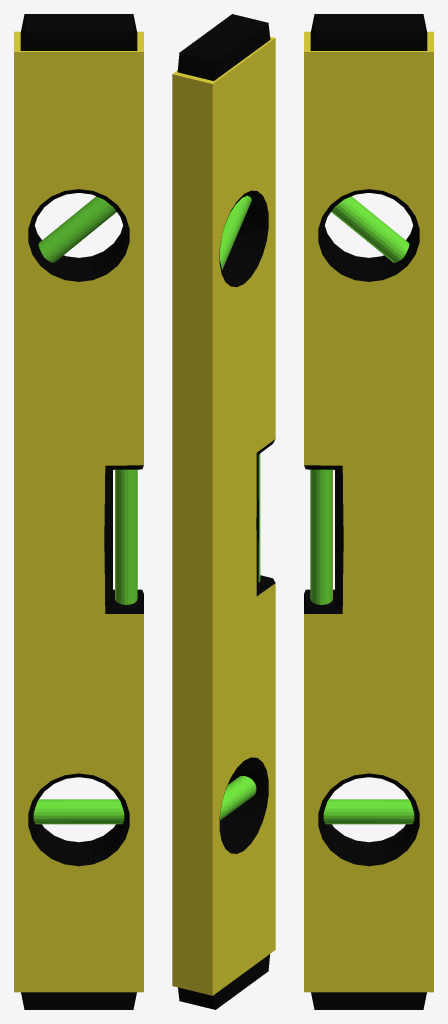
The model's file is spirit_level_ruler.fbx.
The picture shows the model from 3 angles, left to right: view 1: azimuth 90°, elevation 25°; view 2: azimuth 150°, elevation 25°; view 3: azimuth 270°, elevation 25°; orthographic projection. The views are drawn at different scales.
Parts seen in each view (by area): view 1: Ruler; view 2: Ruler; view 3: Ruler.
Part boxes in pixels (box(x1,y1,x2,y2)): Ruler: box(14, 14, 143, 1009); Ruler: box(172, 14, 275, 1009); Ruler: box(304, 14, 433, 1009).
Bounding box in the file's own units: 9.06 × 203 × 24.45.
